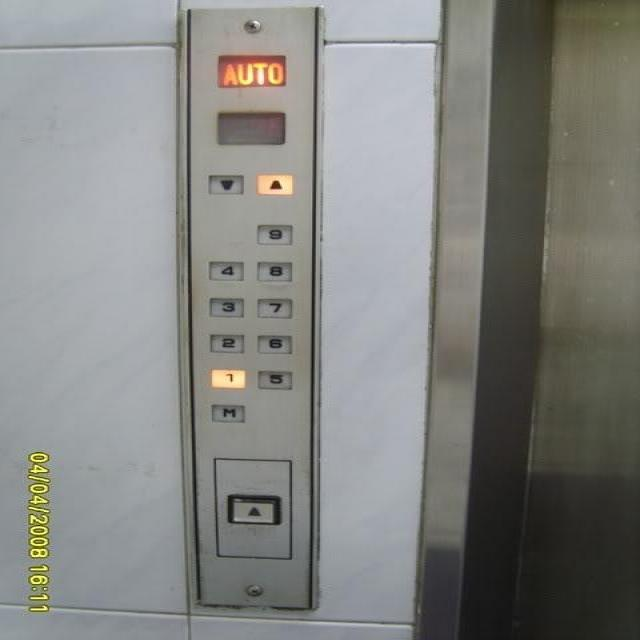1: (208, 365, 248, 389)
2: (206, 330, 246, 354)
3: (206, 294, 246, 318)
4: (206, 258, 246, 282)
5: (254, 366, 294, 390)
6: (254, 331, 294, 355)
7: (254, 295, 294, 319)
8: (254, 259, 294, 281)
9: (254, 222, 294, 245)
M: (206, 400, 246, 424)
down: (206, 171, 246, 196)
led: (213, 108, 287, 145), (213, 52, 287, 88)
up: (225, 491, 283, 525), (253, 172, 295, 195)
